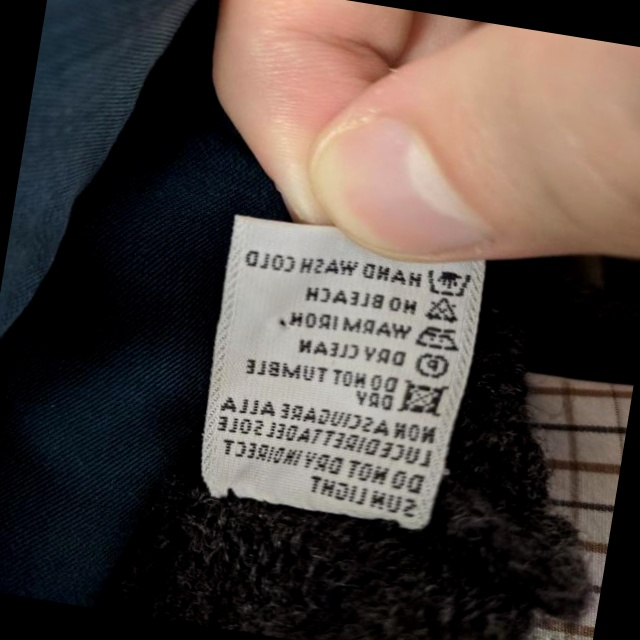DN_bleach: (424, 294, 462, 328)
DN_tumble_dry: (396, 375, 450, 423)
dry_clean_any_solvent_except_trichloroethylene: (412, 351, 450, 381)
hand_wash: (424, 266, 474, 299)
iron_medium: (412, 320, 461, 354)
